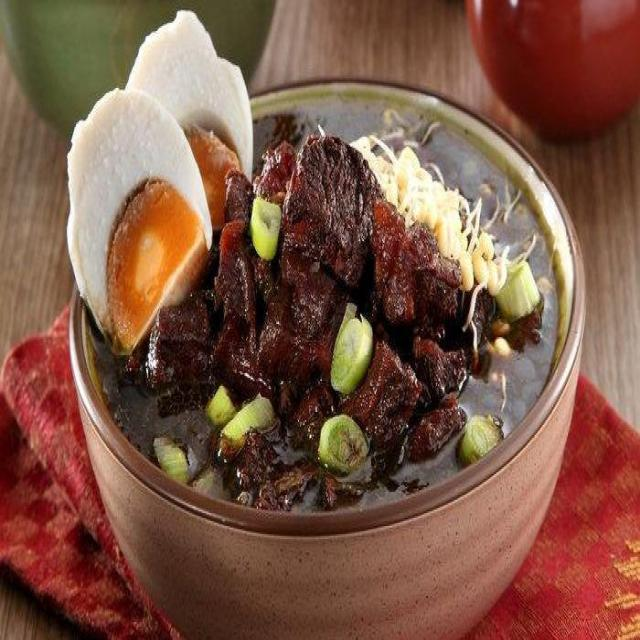Rawon: (111, 87, 561, 526)
